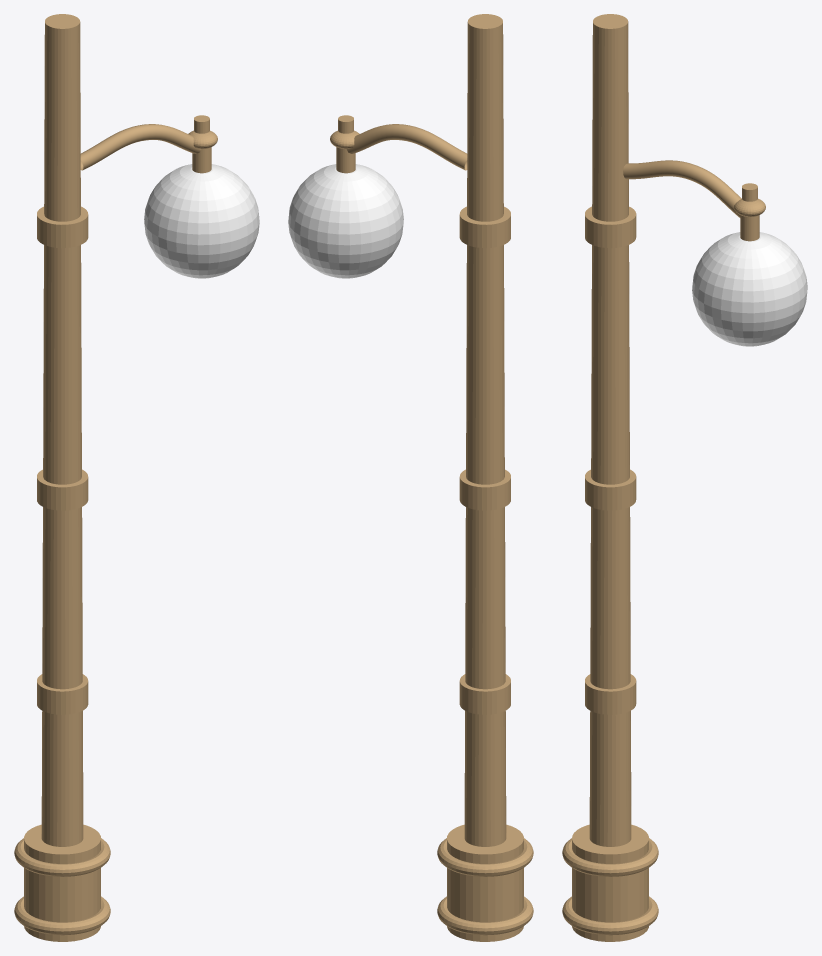
3 views of the same model, side by side, from view 1: azimuth 30°, elevation 25°; view 2: azimuth 150°, elevation 25°; view 3: azimuth 330°, elevation 25° (orthographic).
Parts seen in each view (by area): view 1: MainPole, AmberGlassGlobe, Base, DecorativeArm, Cylinder.002, Torus.001, Torus, Cylinder.001, Cylinder; view 2: MainPole, AmberGlassGlobe, Base, DecorativeArm, Cylinder.002, Torus.001, Torus, Cylinder.001, Cylinder; view 3: MainPole, AmberGlassGlobe, Base, DecorativeArm, Cylinder.002, Torus.001, Torus, Cylinder.001, Cylinder.
Part boxes in pixels (left/top/right/bottom): MainPole: left=41, top=14, right=83, bottom=846; AmberGlassGlobe: left=144, top=164, right=259, bottom=278; Base: left=24, top=824, right=100, bottom=941; DecorativeArm: left=80, top=124, right=201, bottom=170; Cylinder.002: left=37, top=206, right=88, bottom=248; Torus.001: left=14, top=838, right=110, bottom=876; Torus: left=14, top=896, right=110, bottom=935; Cylinder.001: left=37, top=469, right=88, bottom=510; Cylinder: left=37, top=674, right=88, bottom=714; MainPole: left=464, top=14, right=506, bottom=846; AmberGlassGlobe: left=288, top=164, right=403, bottom=278; Base: left=447, top=824, right=523, bottom=941; DecorativeArm: left=346, top=124, right=467, bottom=170; Cylinder.002: left=459, top=206, right=510, bottom=248; Torus.001: left=437, top=838, right=533, bottom=876; Torus: left=437, top=896, right=533, bottom=935; Cylinder.001: left=459, top=469, right=510, bottom=510; Cylinder: left=459, top=674, right=510, bottom=714; MainPole: left=589, top=14, right=631, bottom=846; AmberGlassGlobe: left=692, top=232, right=807, bottom=346; Base: left=572, top=824, right=648, bottom=941; DecorativeArm: left=623, top=160, right=741, bottom=217; Cylinder.002: left=585, top=206, right=636, bottom=247; Torus.001: left=562, top=838, right=658, bottom=876; Torus: left=562, top=896, right=658, bottom=935; Cylinder.001: left=585, top=469, right=636, bottom=510; Cylinder: left=585, top=674, right=636, bottom=714.
Bounding box in the file's own units: 0.83 × 3.1 × 0.36.
